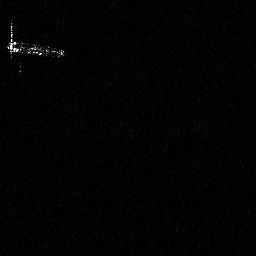ship: (2, 19, 65, 60)
